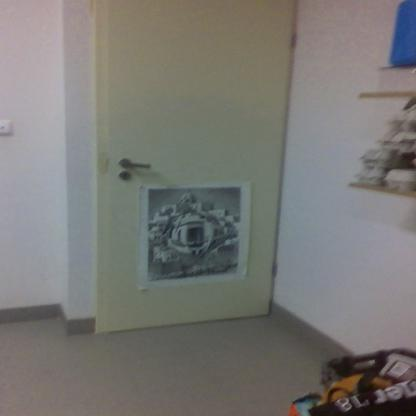door: (108, 0, 272, 314)
hinged: (289, 30, 297, 48), (270, 262, 278, 276)
lever: (122, 158, 154, 170)
